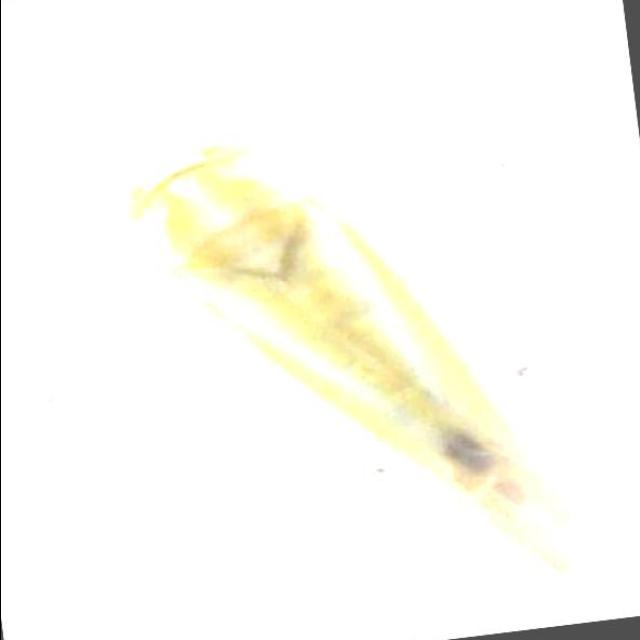green leaf hopper: (132, 148, 563, 565)
